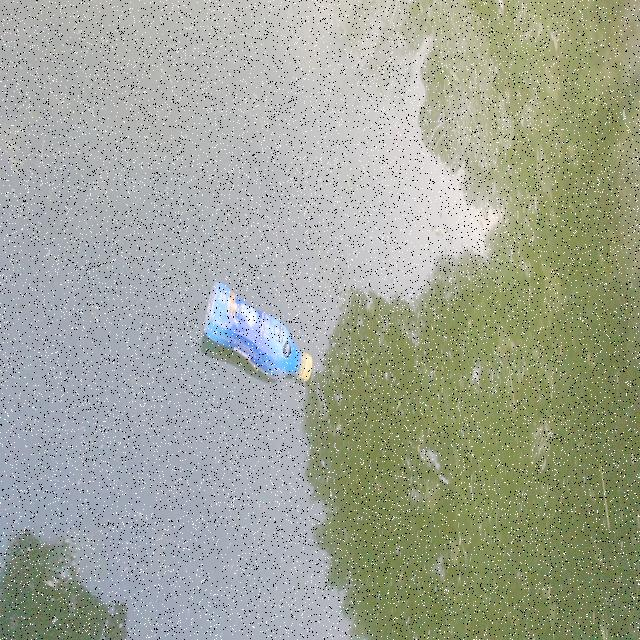Bottle: (201, 277, 313, 389)
